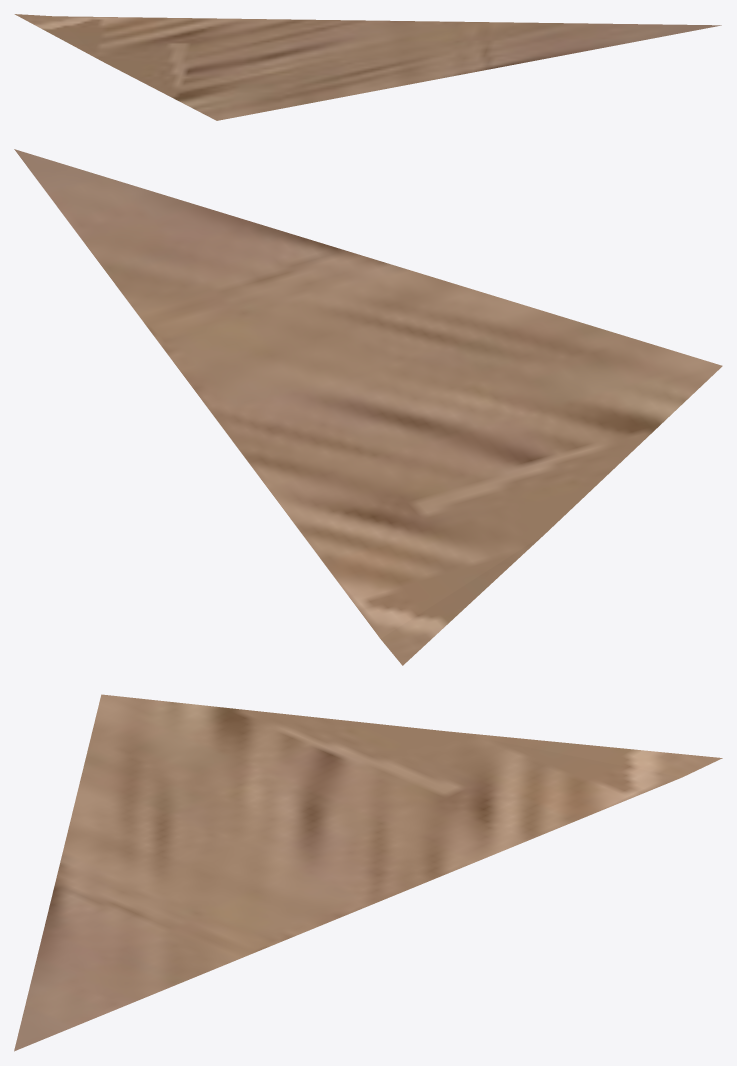
The picture shows the model from 3 angles, top to bottom: view 1: azimuth 30°, elevation 25°; view 2: azimuth 150°, elevation 25°; view 3: azimuth 270°, elevation 25°; orthographic projection. The views are drawn at different scales.
Bounding box in the file's own units: 0.3631 × 0.0302 × 0.3047.
Materials: 1 (1 with a texture image).
